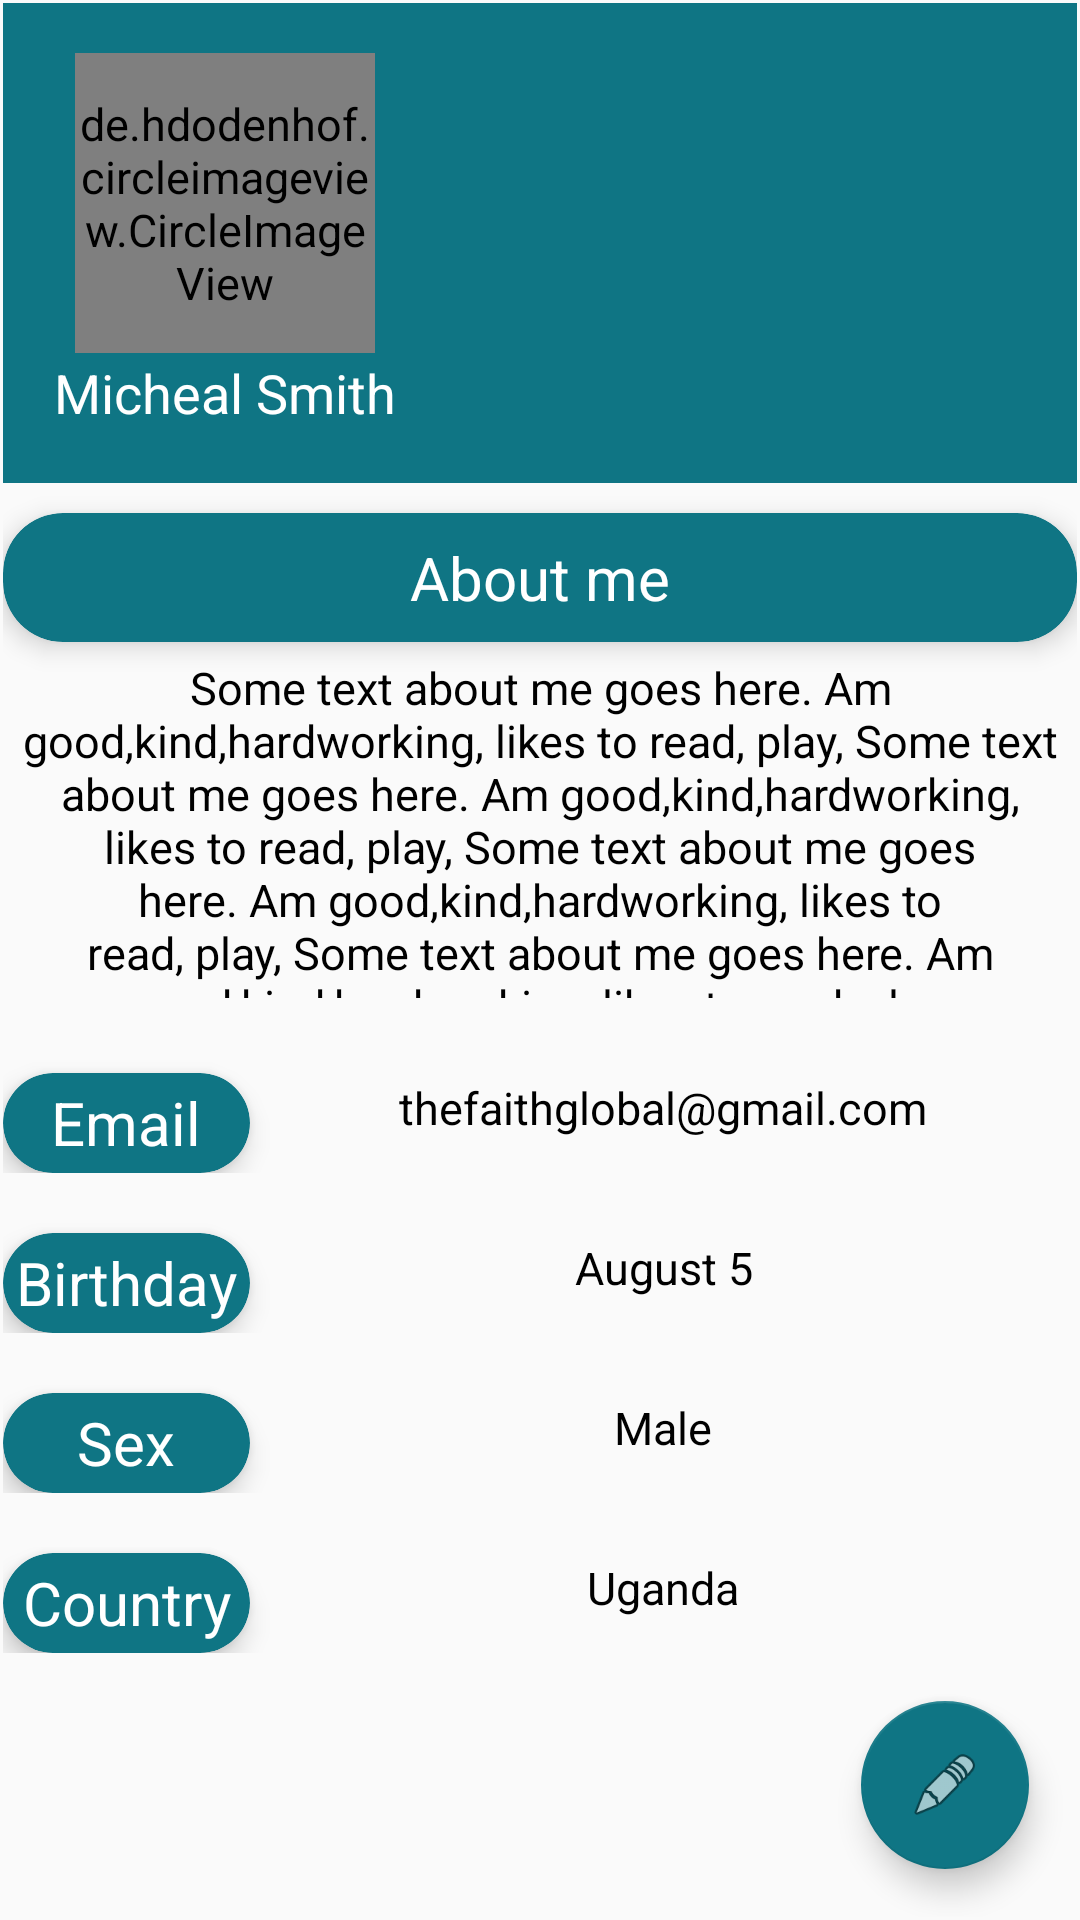

Locate icon controls on the screen. Image size 1080x1920, boxes as BBox(x1, y1, x2, y2).
edit: BBox(861, 1701, 1029, 1869)
